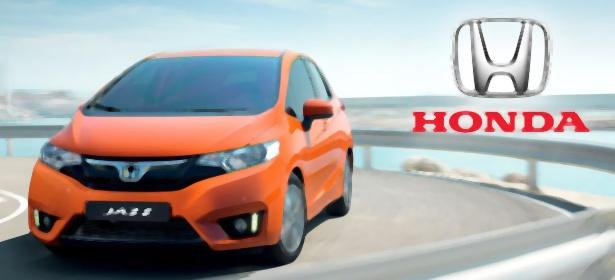Car hood: (45, 105, 284, 160)
Fender - -F-L-: (248, 105, 311, 221)
Front bumper: (22, 165, 297, 270)
Headlight - -L-: (193, 136, 284, 177)
Headlight - -R-: (35, 137, 85, 174)
Passenger-s door - -F-L-: (289, 54, 328, 204)
Passenger-s door - -R-L-: (306, 54, 347, 191)
Rear light - -L-: (333, 91, 356, 117)
Side bumper - -L-: (301, 188, 349, 226)
Side mirror - -L-: (299, 95, 337, 139)
